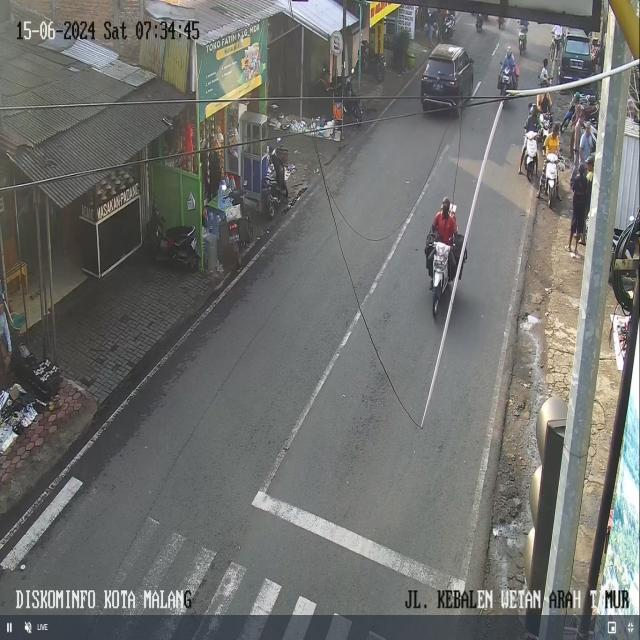Helmet: (442, 197, 450, 216), (442, 197, 450, 207), (573, 92, 580, 100), (506, 46, 511, 54)
